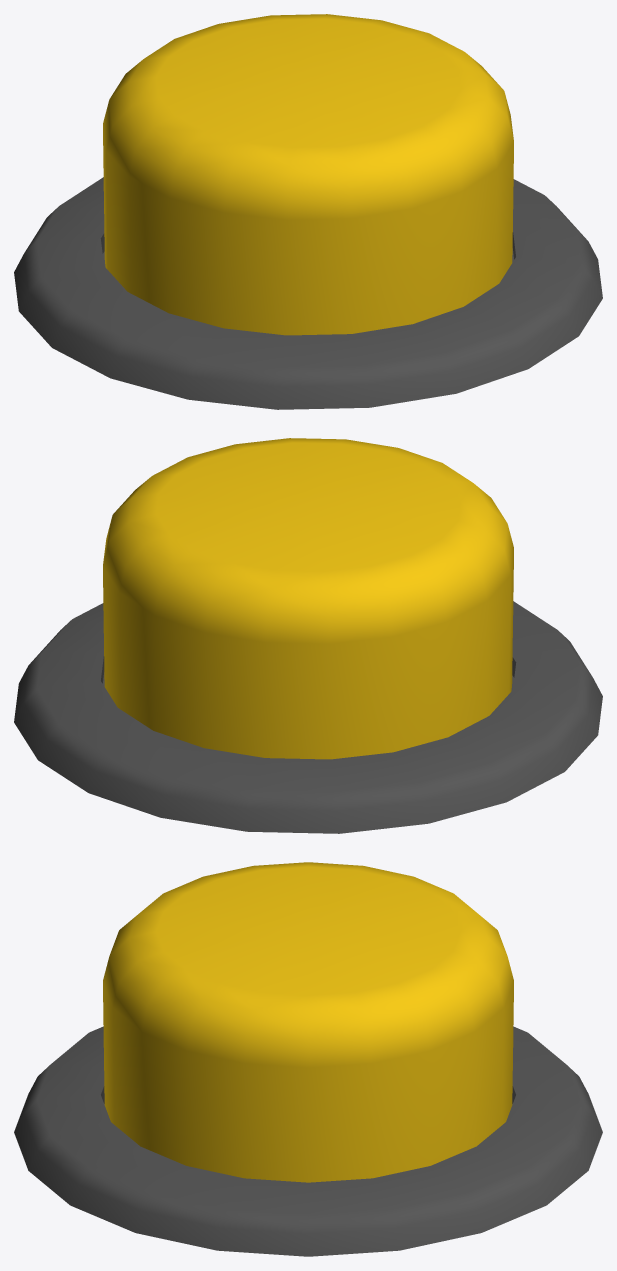
The model's file is button5.glb.
The picture shows the model from 3 angles, top to bottom: view 1: azimuth 30°, elevation 25°; view 2: azimuth 150°, elevation 25°; view 3: azimuth 270°, elevation 25°; orthographic projection.
Parts seen in each view (by area): view 1: SM_SimpleButton_B.001, SM_SimpleButton_Base_B.001; view 2: SM_SimpleButton_B.001, SM_SimpleButton_Base_B.001; view 3: SM_SimpleButton_B.001, SM_SimpleButton_Base_B.001.
Boxes of the visible parts, left/top/right/bottom form: SM_SimpleButton_B.001: left=103, top=14, right=513, bottom=335; SM_SimpleButton_Base_B.001: left=14, top=177, right=602, bottom=409; SM_SimpleButton_B.001: left=103, top=438, right=513, bottom=759; SM_SimpleButton_Base_B.001: left=14, top=601, right=602, bottom=833; SM_SimpleButton_B.001: left=103, top=862, right=513, bottom=1182; SM_SimpleButton_Base_B.001: left=14, top=1026, right=602, bottom=1256.
Size of the model in its own units: 24.07 by 9.07 by 24.07.
